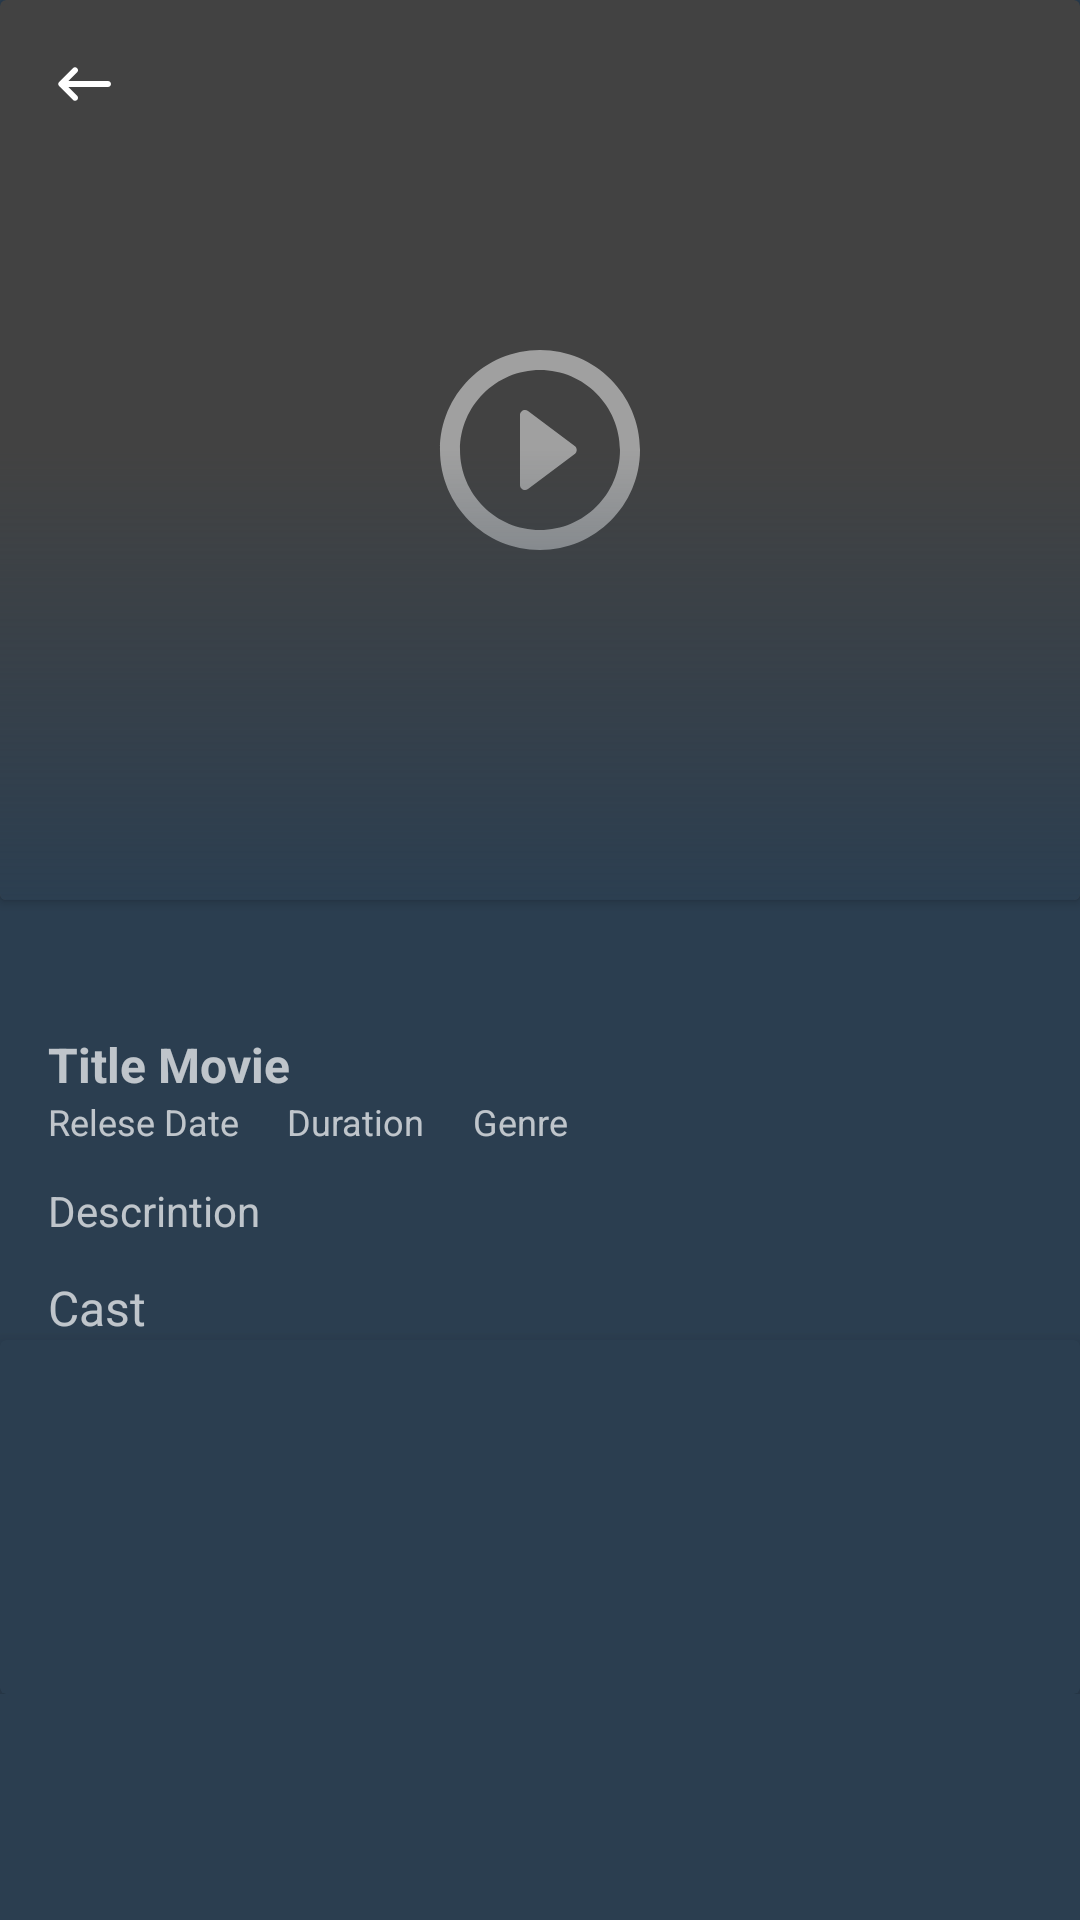

Locate icon controls on the screen. Image size 1080x1920, boxes as [x1=x1, y1=y1, x2=x2, y2=y2].
play circle: [x1=440, y1=350, x2=640, y2=550]
